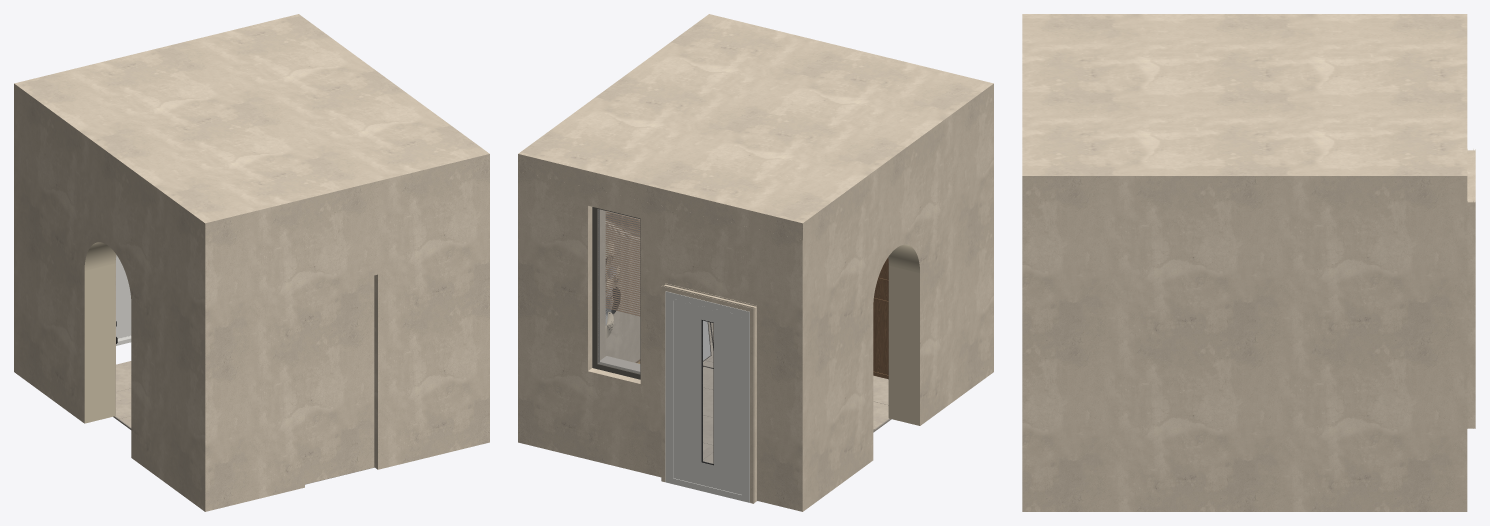
File: hall.glb
The picture shows the model from 3 angles, left to right: view 1: azimuth 30°, elevation 25°; view 2: azimuth 150°, elevation 25°; view 3: azimuth 270°, elevation 25°; orthographic projection. The views are drawn at different scales.
Parts seen in each view (by area): view 1: HALL__WALL_S, HALL__CEIL, HALL__WALL_W, HALL__WALL_N, HALL__SOLID; view 2: HALL__CEIL, HALL__WALL_N, HALL__WALL_W, HALL__WALL_E, HALL__SOLID, HALL__WALL_S; view 3: HALL__WALL_E, HALL__CEIL, HALL__WALL_S, HALL__WALL_N.
Part boxes in pixels (left/top/right/bottom): HALL__WALL_S: left=199, top=171, right=489, bottom=511; HALL__CEIL: left=14, top=14, right=489, bottom=240; HALL__WALL_W: left=14, top=100, right=199, bottom=507; HALL__WALL_N: left=116, top=255, right=131, bottom=345; HALL__SOLID: left=113, top=321, right=374, bottom=484; HALL__CEIL: left=518, top=14, right=993, bottom=240; HALL__WALL_N: left=559, top=181, right=771, bottom=504; HALL__WALL_W: left=772, top=105, right=988, bottom=511; HALL__WALL_E: left=518, top=171, right=713, bottom=452; HALL__SOLID: left=605, top=211, right=891, bottom=463; HALL__WALL_S: left=988, top=100, right=993, bottom=375; HALL__WALL_E: left=1035, top=195, right=1467, bottom=511; HALL__CEIL: left=1022, top=14, right=1467, bottom=195; HALL__WALL_S: left=1022, top=195, right=1035, bottom=511; HALL__WALL_N: left=1467, top=149, right=1475, bottom=428.
Size of the model in its own units: 3.51 by 3.43 by 4.16.
36 materials, 13 textured.
